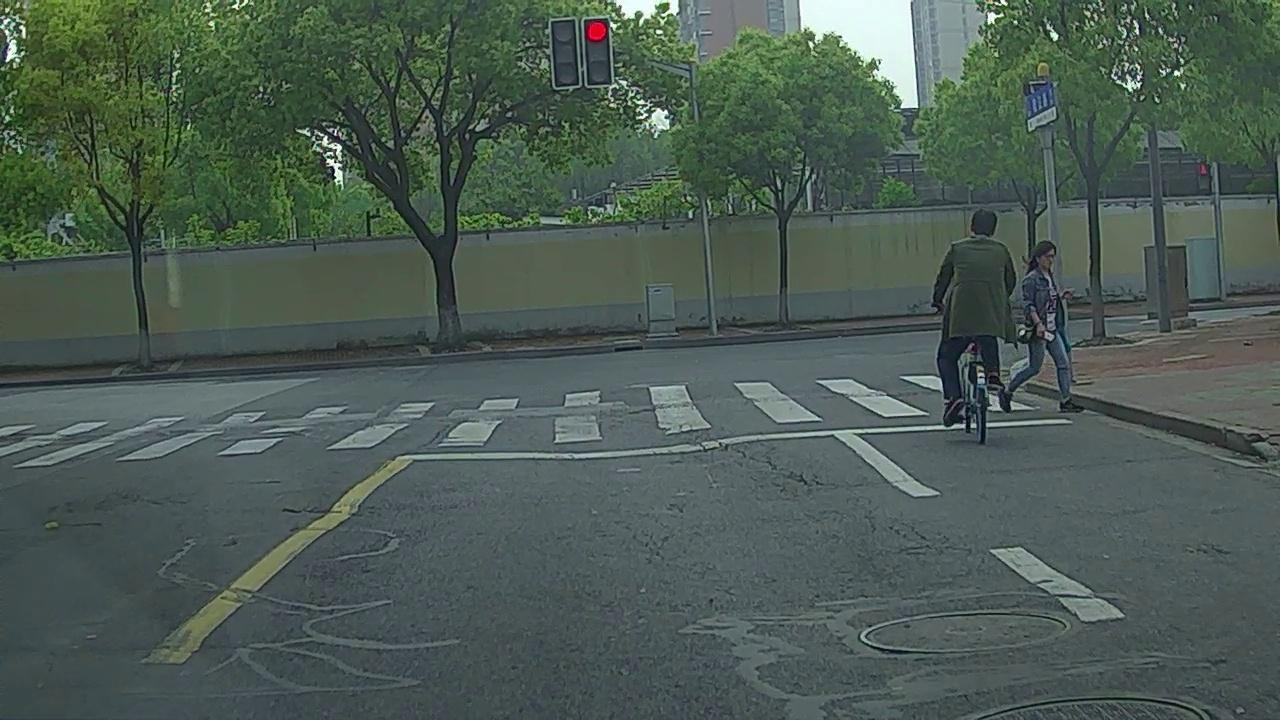traffic_light: (584, 19, 613, 86), (552, 20, 580, 86)
